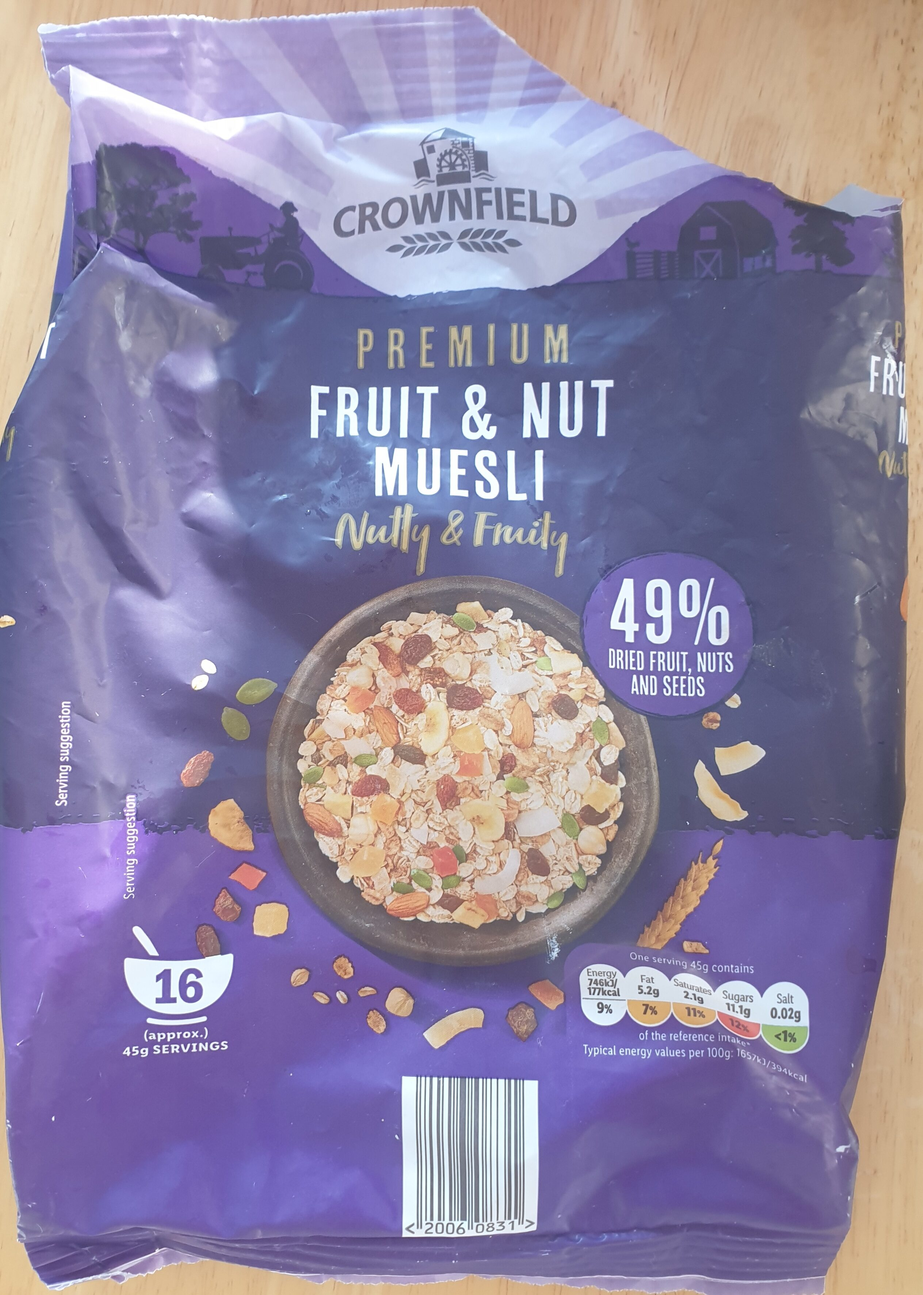Premium Fruit & Nut Muesli: (46, 65, 877, 1230)
